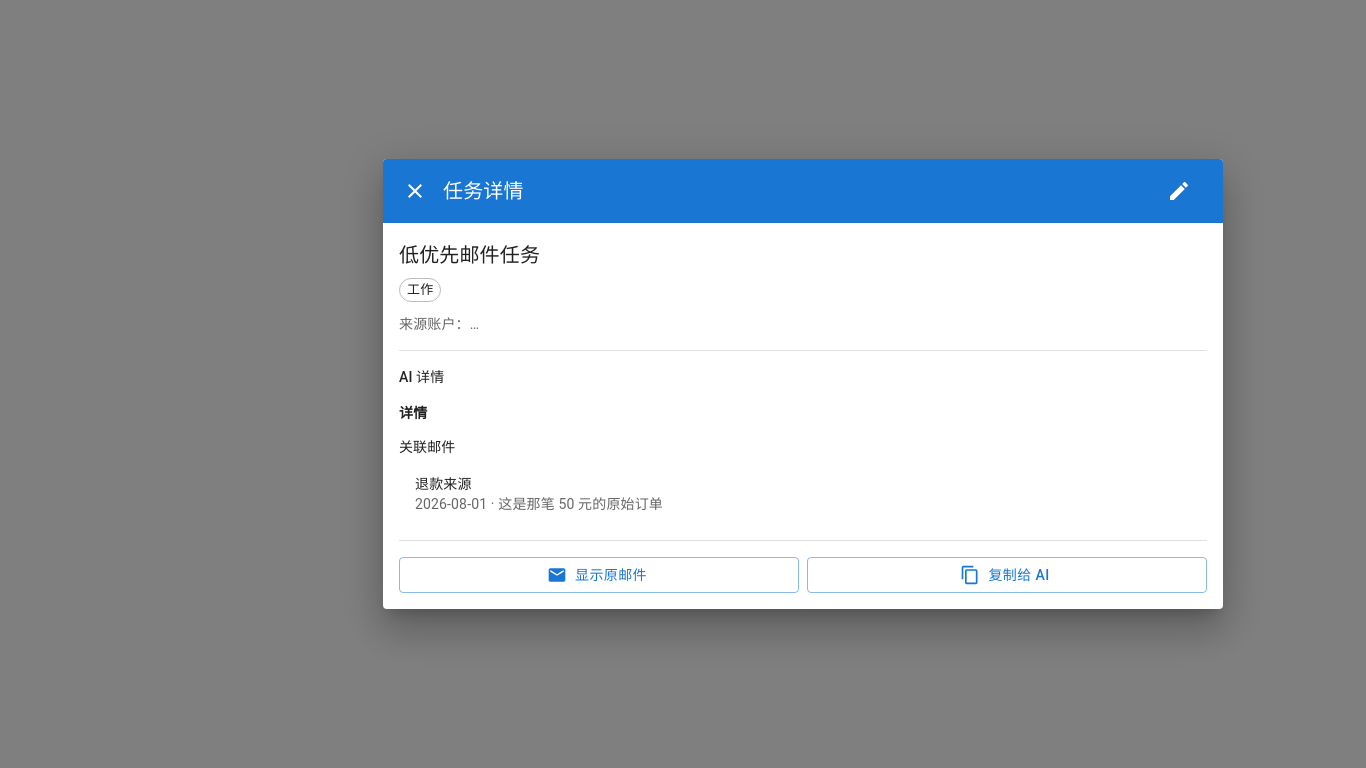
Test: ItemDialog 邮件条目的编辑放开 › 打开 low 邮件条目的编辑器：重要度控件选中「次要」，不退回默认「普通」
The image size is (1366, 768).
Check: the text "退款来源" is shown, box [415,476,472,492]
Click the button named "编辑": (1179, 191) [1159,171,1199,211]
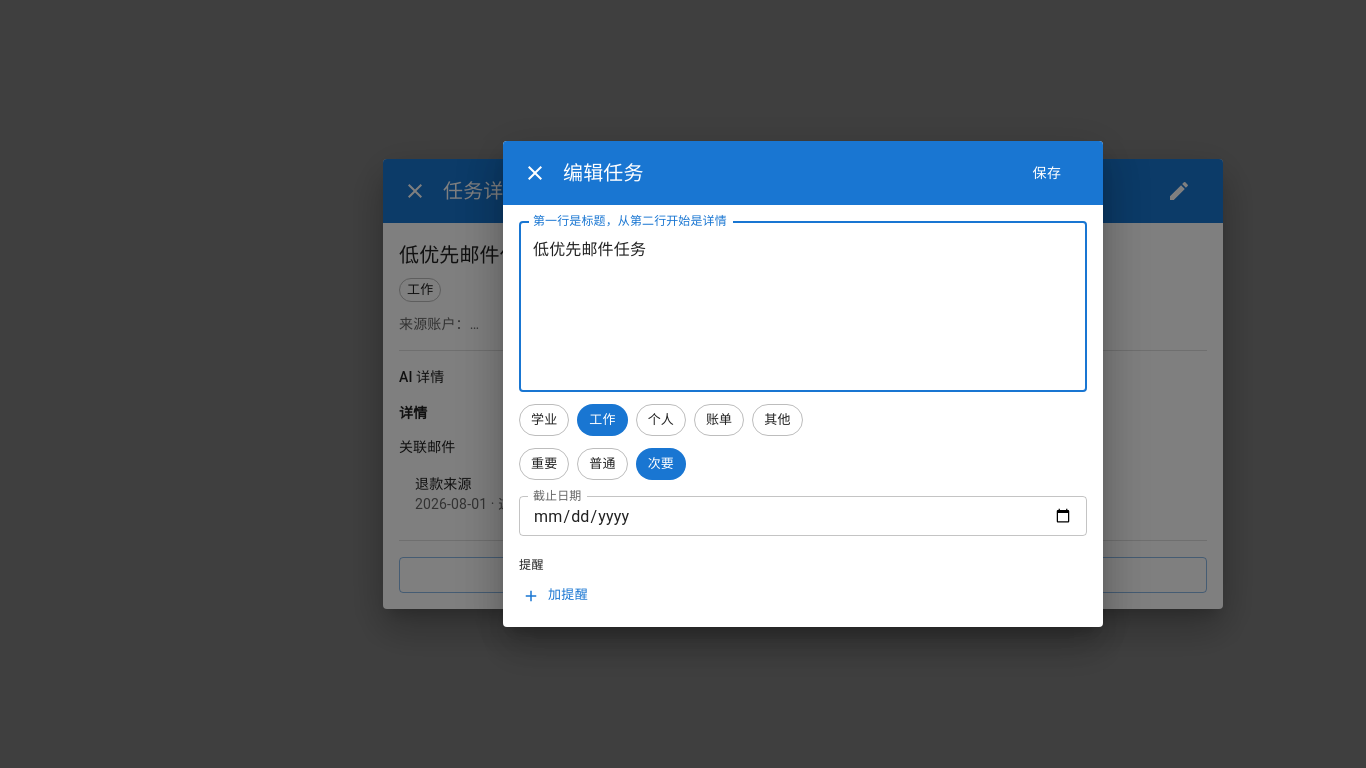
Check: the text box named "任务内容" is shown, box [533,238,1073,376]
